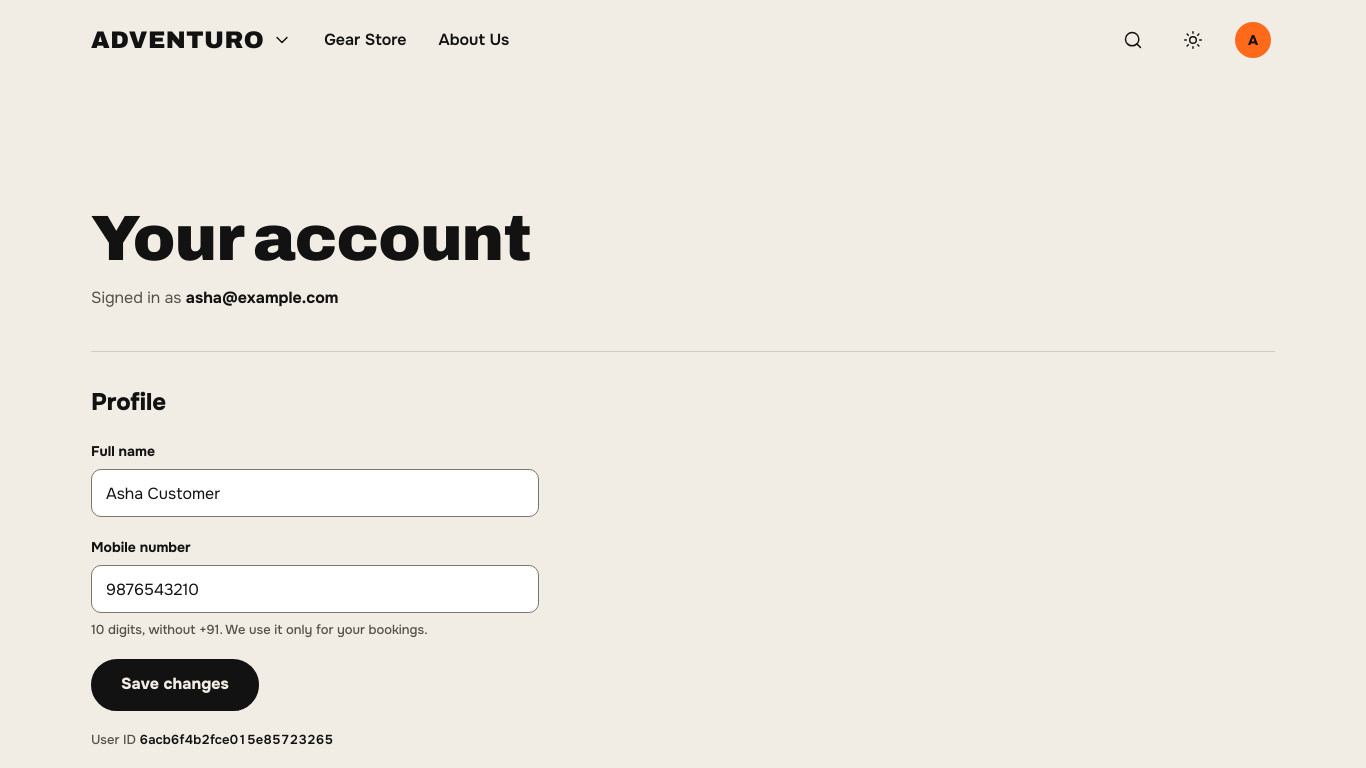
Test: AccountPage › validates before saving, and shows a taken number on the phone field
The image size is (1366, 768).
Expected: the heading "Your account" is shown, top-left (91, 204), bottom-right (531, 273)
Replace the text in the field labelled "Mobile number" with "12345": (315, 589) top-left (91, 565), bottom-right (539, 613)
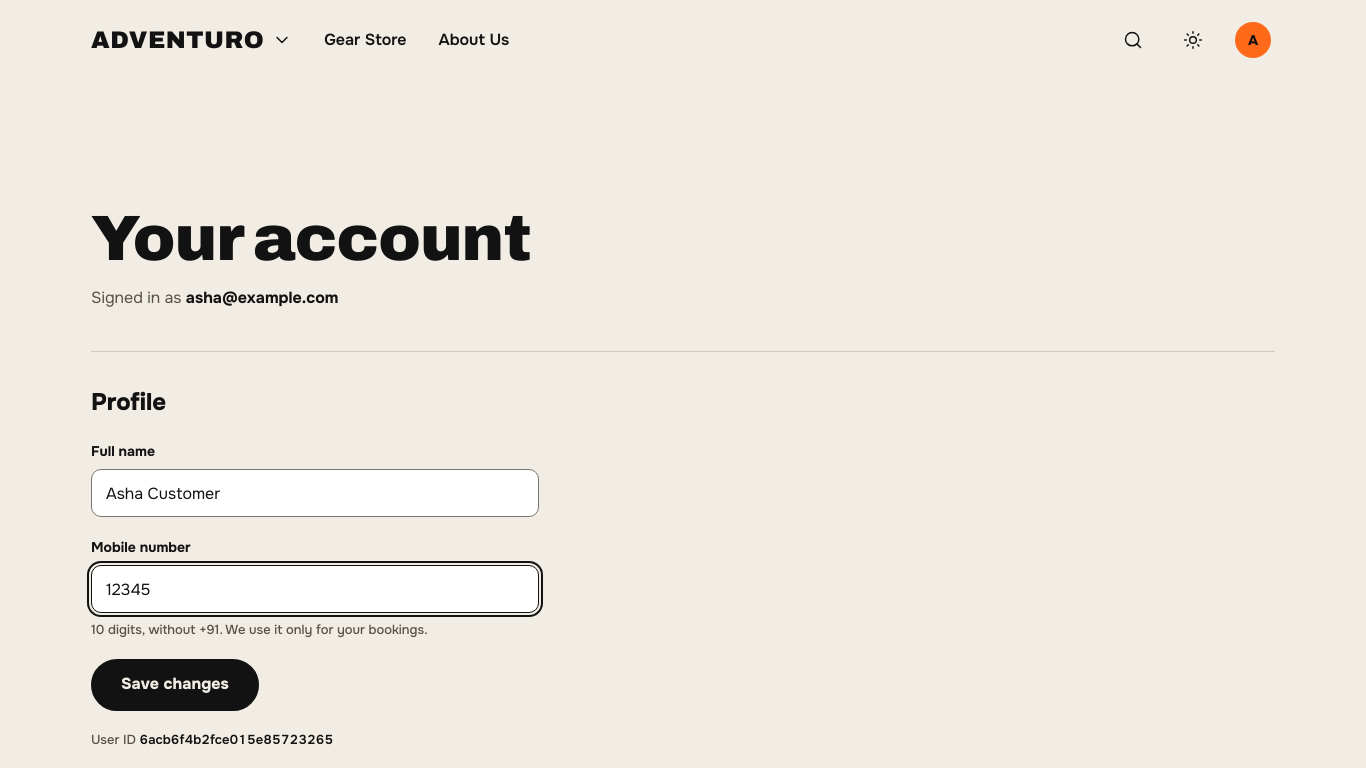
Click the button "Save changes": (175, 685) top-left (91, 659), bottom-right (259, 711)
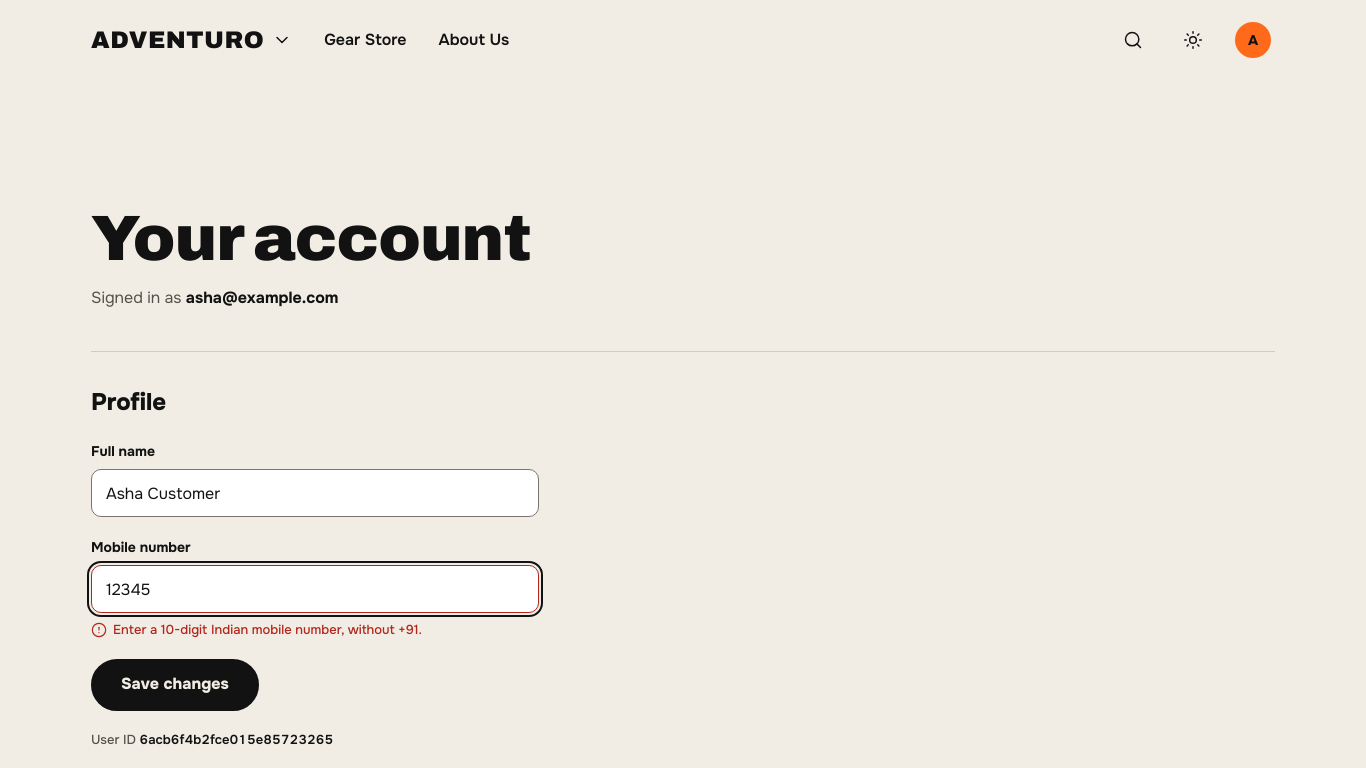
Now the message reads "Enter a 10-digit Indian mobile number, without +91.", box top-left (113, 621), bottom-right (422, 638)
Replace the text in the field labelled "Mobile number" with "9123456780": (315, 589) top-left (91, 565), bottom-right (539, 613)
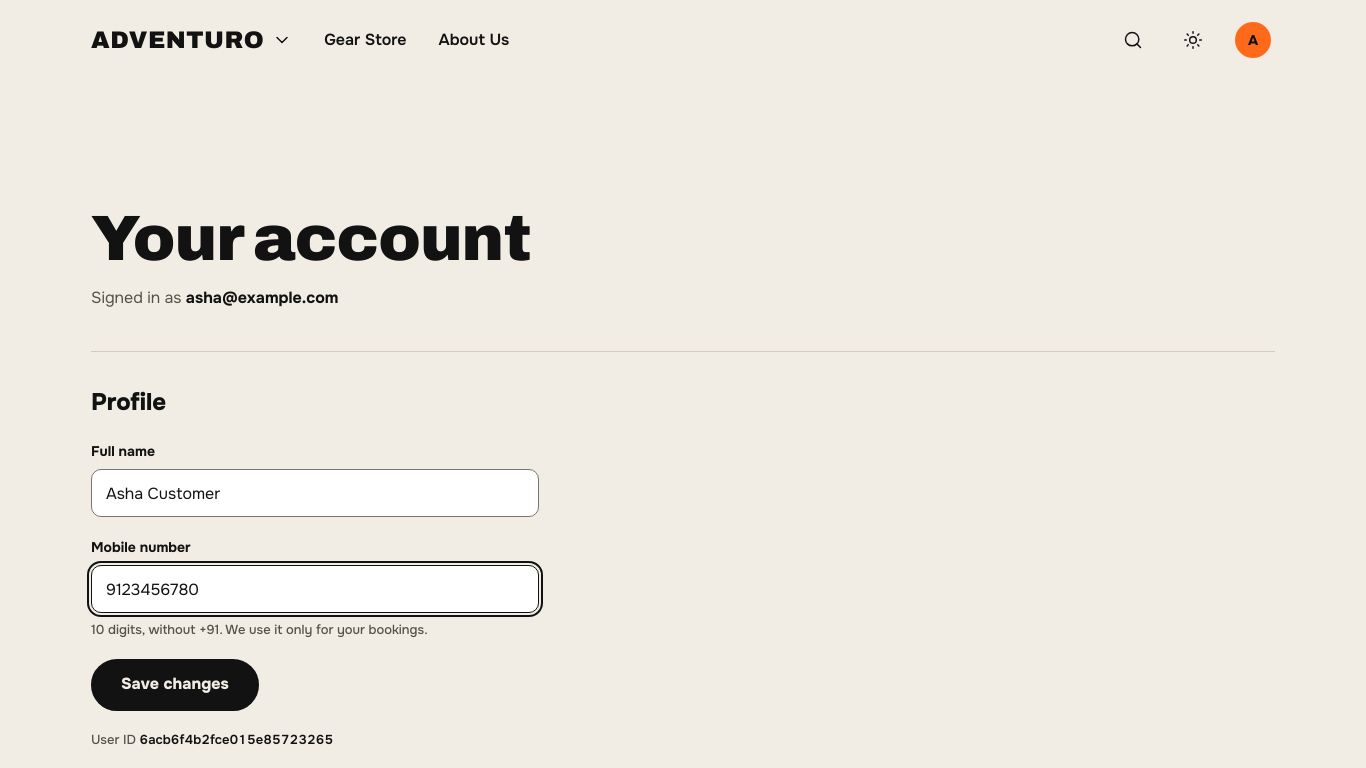
Click the button "Save changes": (175, 685) top-left (91, 659), bottom-right (259, 711)
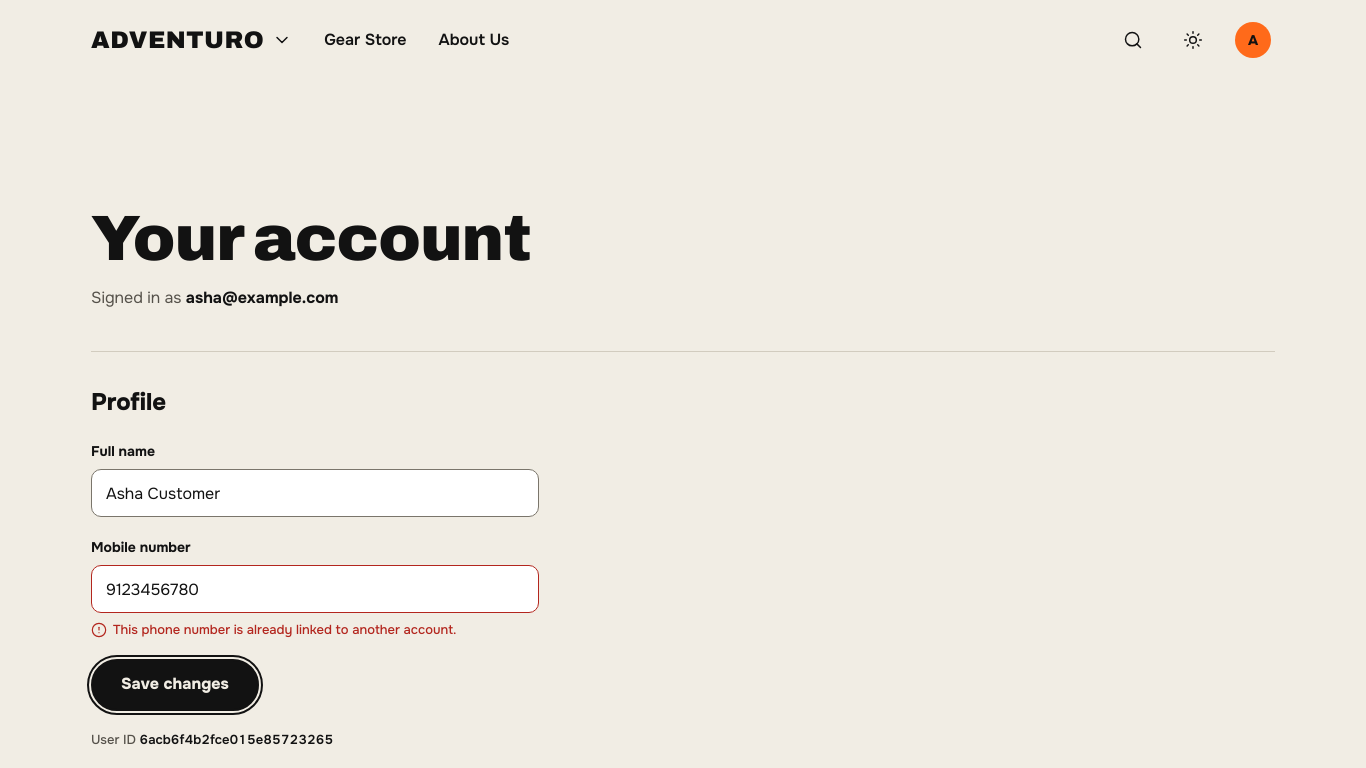
Now the message reads "This phone number is already linked to another account.", box top-left (113, 621), bottom-right (456, 638)
